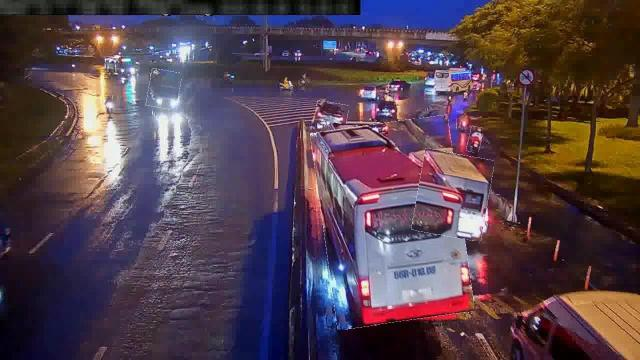Bike: (468, 126, 482, 152), (457, 112, 471, 132), (105, 96, 114, 116)
Bus: (316, 119, 468, 326), (414, 151, 492, 238)
Car: (316, 101, 348, 123), (372, 101, 400, 117)
Truck: (147, 70, 180, 109)
